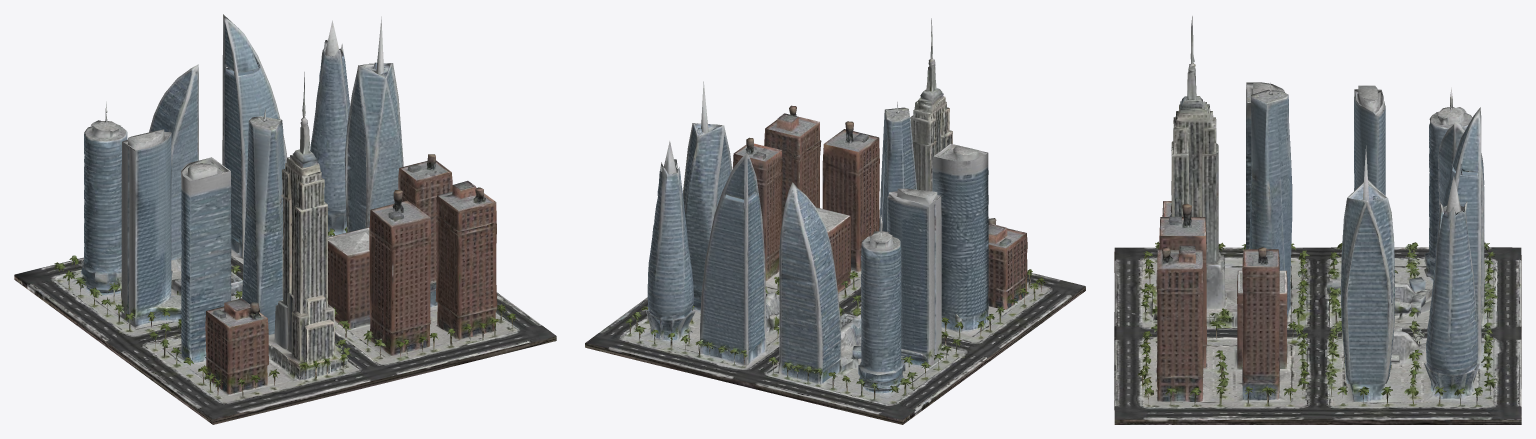
File: fusion_dubai_ny_far.glb
3 views of the same model, side by side, from view 1: azimuth 30°, elevation 25°; view 2: azimuth 150°, elevation 25°; view 3: azimuth 270°, elevation 25° (orthographic). The views are drawn at different scales.
Visible parts, largest first — view 1: fusion_dubai_ny; view 2: fusion_dubai_ny; view 3: fusion_dubai_ny.
Part boxes in pixels (x1,y1,x2,y2): fusion_dubai_ny: (14, 14, 556, 424); fusion_dubai_ny: (585, 18, 1085, 424); fusion_dubai_ny: (1114, 16, 1521, 424).
Size of the model in its own units: 1.9 by 1.56 by 1.9.
Materials: 1 (1 with a texture image).
